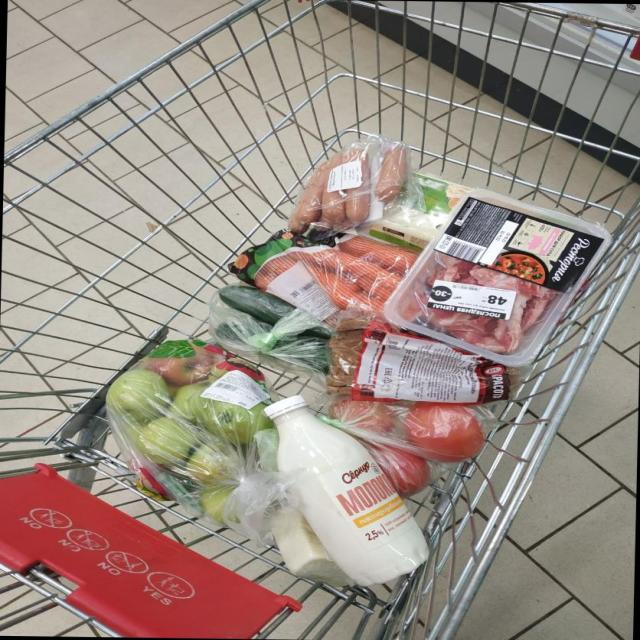Apple: (199, 398, 273, 444), (107, 369, 170, 423), (139, 416, 200, 466), (148, 352, 215, 386), (184, 444, 232, 484), (170, 383, 209, 423), (200, 486, 235, 523), (207, 369, 226, 383)
Bread: (326, 318, 510, 404)
Carrot: (308, 249, 401, 291), (306, 263, 383, 312), (337, 237, 417, 275), (355, 279, 391, 301)
Cheese: (271, 506, 353, 587)
Cucumber: (219, 284, 295, 324), (300, 325, 333, 339)
Eggs: (366, 174, 468, 251)
Meat: (383, 189, 611, 366)
Milk: (264, 395, 429, 585)
Sausages: (289, 135, 410, 233)
Tomatoes: (403, 404, 485, 462), (370, 447, 431, 497), (329, 399, 396, 433)
